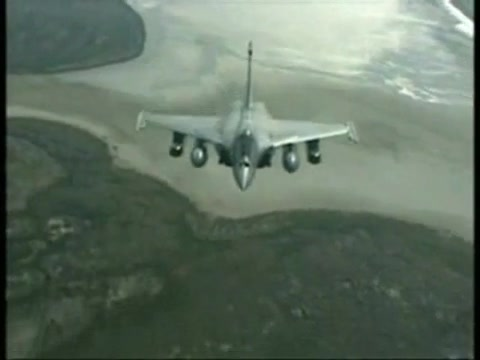aeroplane: (136, 43, 360, 193)
